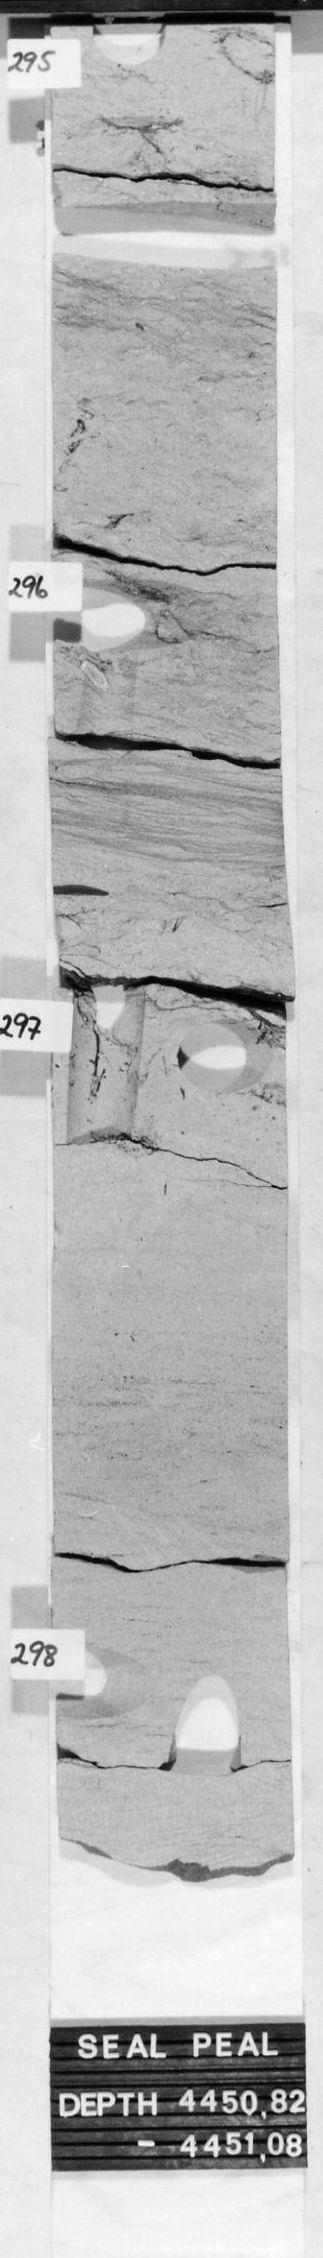hplug: (50, 577, 212, 657), (170, 1014, 275, 1094), (62, 1647, 160, 1725), (91, 24, 173, 75)
scal: (53, 196, 275, 292)
vplug: (66, 975, 153, 1153), (160, 1666, 251, 1786), (68, 654, 146, 755)
